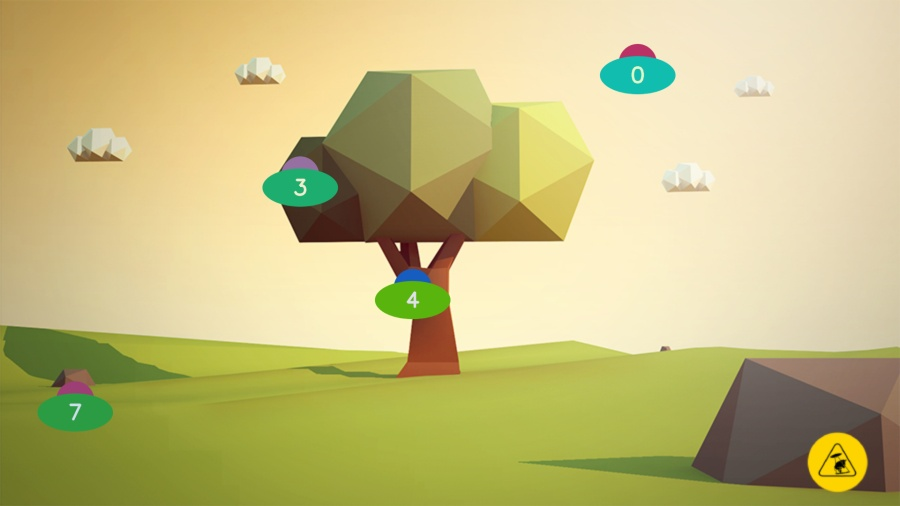ufo: (374, 268, 451, 320), (262, 156, 339, 208), (599, 43, 676, 95), (38, 382, 113, 432)
